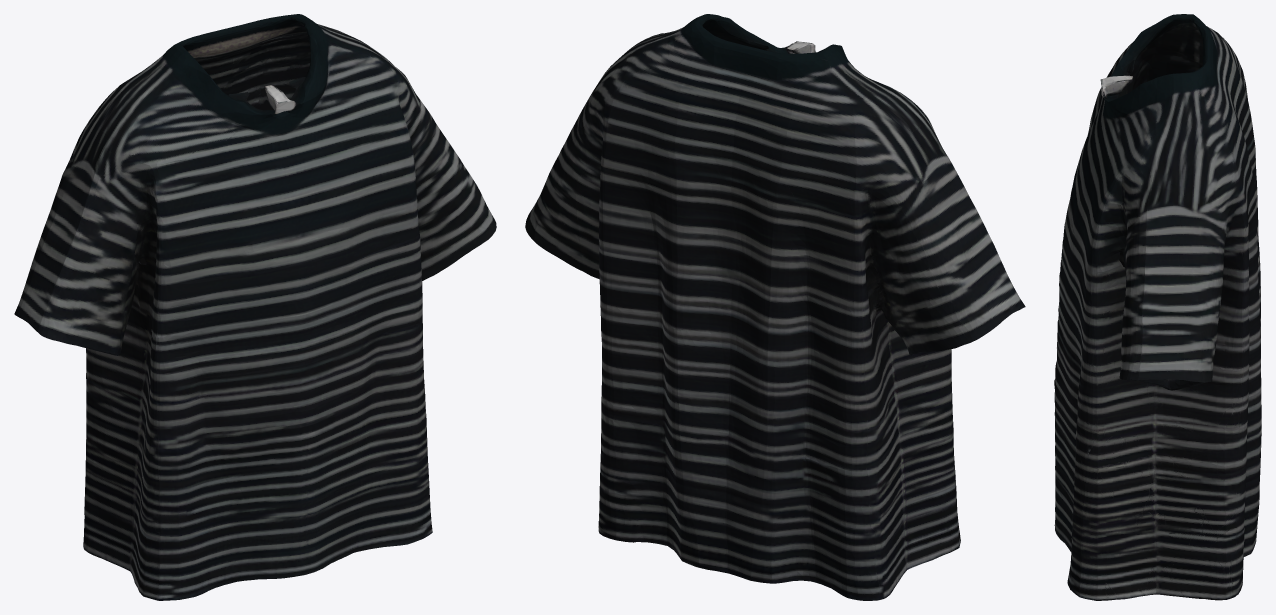
Rendered from product1.glb.
The picture shows the model from 3 angles, left to right: view 1: azimuth 30°, elevation 25°; view 2: azimuth 150°, elevation 25°; view 3: azimuth 270°, elevation 25°; orthographic projection. The views are drawn at different scales.
Parts seen in each view (by area): view 1: world; view 2: world; view 3: world.
Boxes of the visible parts, bbox=[...] form: world: bbox=[14, 14, 496, 600]; world: bbox=[525, 14, 1025, 600]; world: bbox=[1054, 14, 1261, 600].
Bounding box in the file's own units: 0.9635 × 1 × 0.3832.
1 material, 1 textured.
